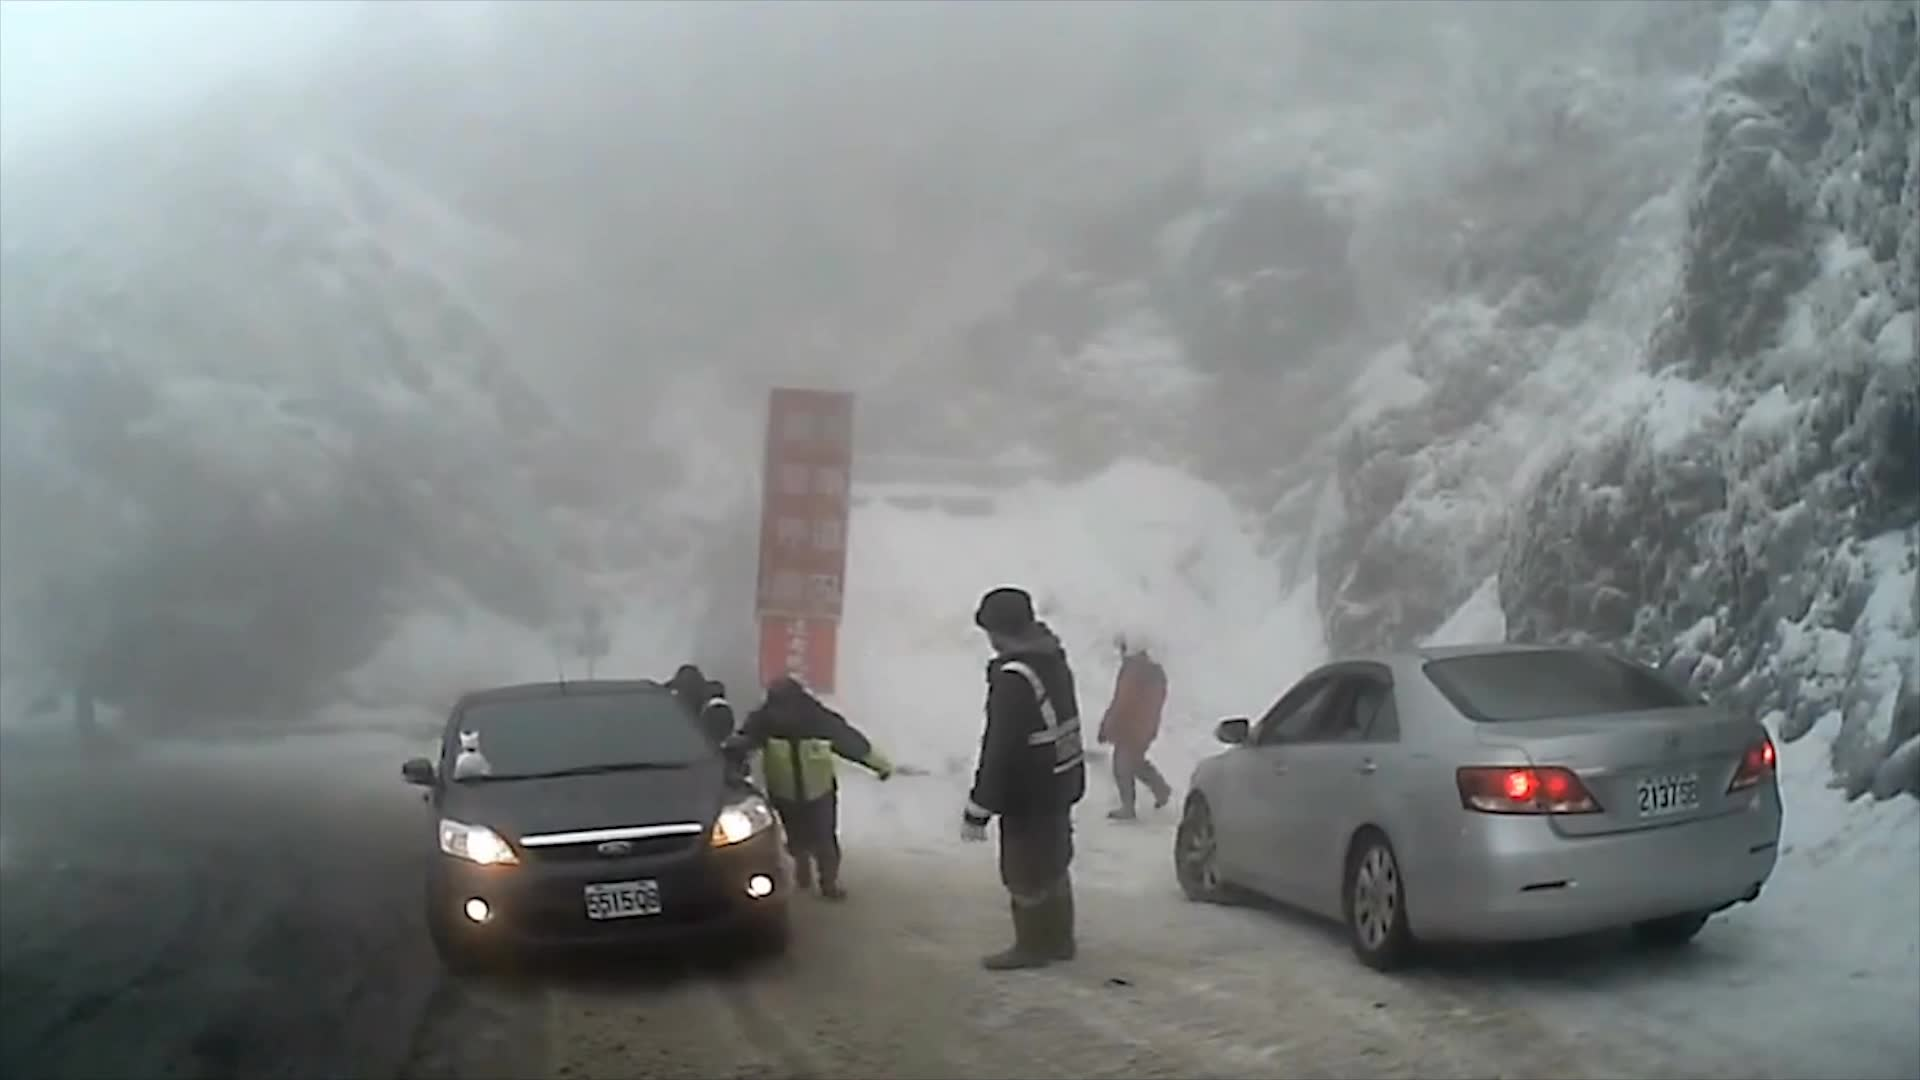pedestrian: (945, 589, 1088, 975), (721, 678, 883, 902), (666, 660, 745, 858), (1098, 629, 1179, 822)
vehicle: (1174, 644, 1784, 970), (400, 677, 792, 977)
